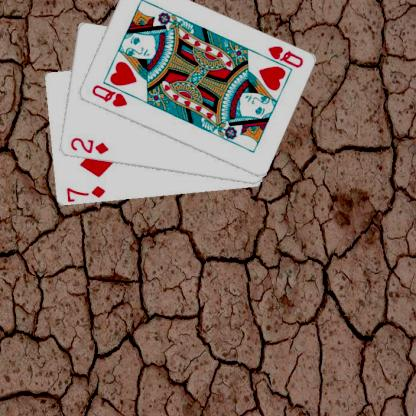2D: (67, 135, 110, 156)
7D: (64, 184, 106, 201)
QH: (257, 43, 304, 73), (89, 82, 128, 109)
